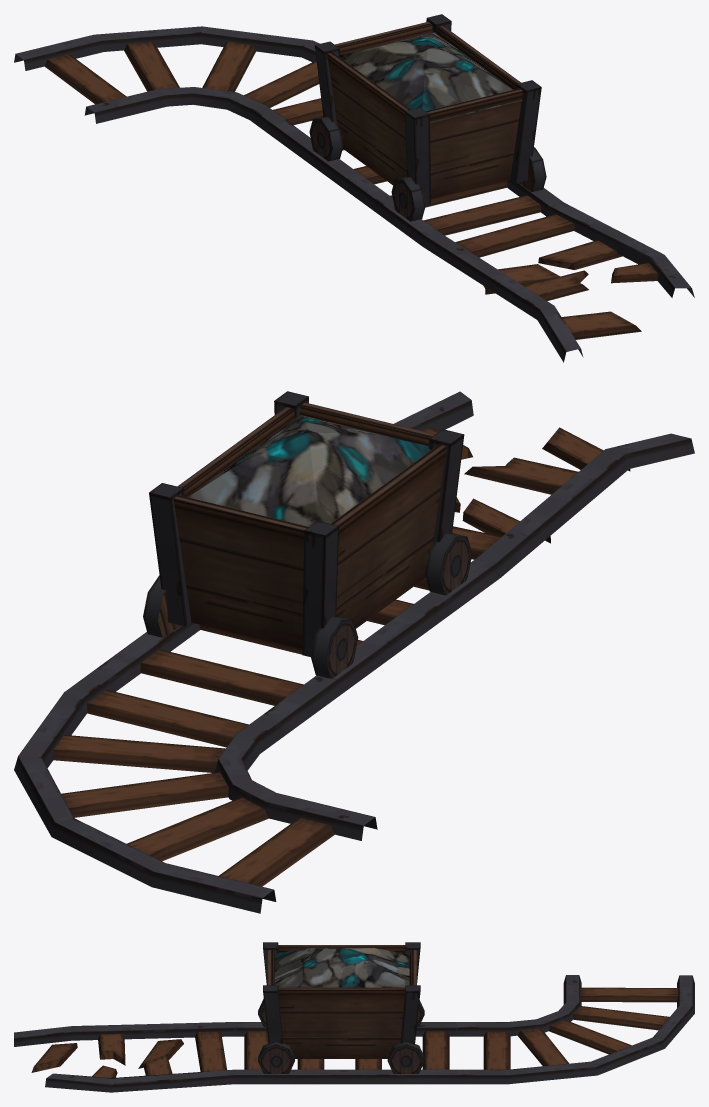
Rendered from 2_DG_KuangChe_01.FBX.
3 renders of one model, top to bottom at view 1: azimuth 30°, elevation 25°; view 2: azimuth 150°, elevation 25°; view 3: azimuth 270°, elevation 25°, orthographic. The views are drawn at different scales.
Visible parts, largest first — view 1: 2_DG_KuangChe_01, 2_DG_TieGui_01, 2_DG_TieGui_03, 2_DG_KuangChe_02, 2_DG_TieGui_02; view 2: 2_DG_KuangChe_01, 2_DG_TieGui_01, 2_DG_KuangChe_02, 2_DG_TieGui_03, 2_DG_TieGui_02; view 3: 2_DG_KuangChe_01, 2_DG_TieGui_01, 2_DG_TieGui_03, 2_DG_TieGui_02, 2_DG_KuangChe_02.
Part boxes in pixels (x1,y1,x2,y2): 2_DG_KuangChe_01: (309,14,546,221); 2_DG_TieGui_01: (14,26,323,144); 2_DG_TieGui_03: (423,202,694,362); 2_DG_KuangChe_02: (339,32,522,123); 2_DG_TieGui_02: (283,130,563,246); 2_DG_KuangChe_01: (143,391,472,678); 2_DG_TieGui_01: (14,658,377,913); 2_DG_KuangChe_02: (187,415,430,526); 2_DG_TieGui_03: (394,391,694,577); 2_DG_TieGui_02: (110,558,500,719); 2_DG_KuangChe_01: (258,942,424,1073); 2_DG_TieGui_01: (457,975,694,1084); 2_DG_TieGui_03: (14,1022,235,1092); 2_DG_TieGui_02: (235,1022,456,1084); 2_DG_KuangChe_02: (274,948,409,987).
Bounding box in the file's own units: 468 × 237 × 1229.
